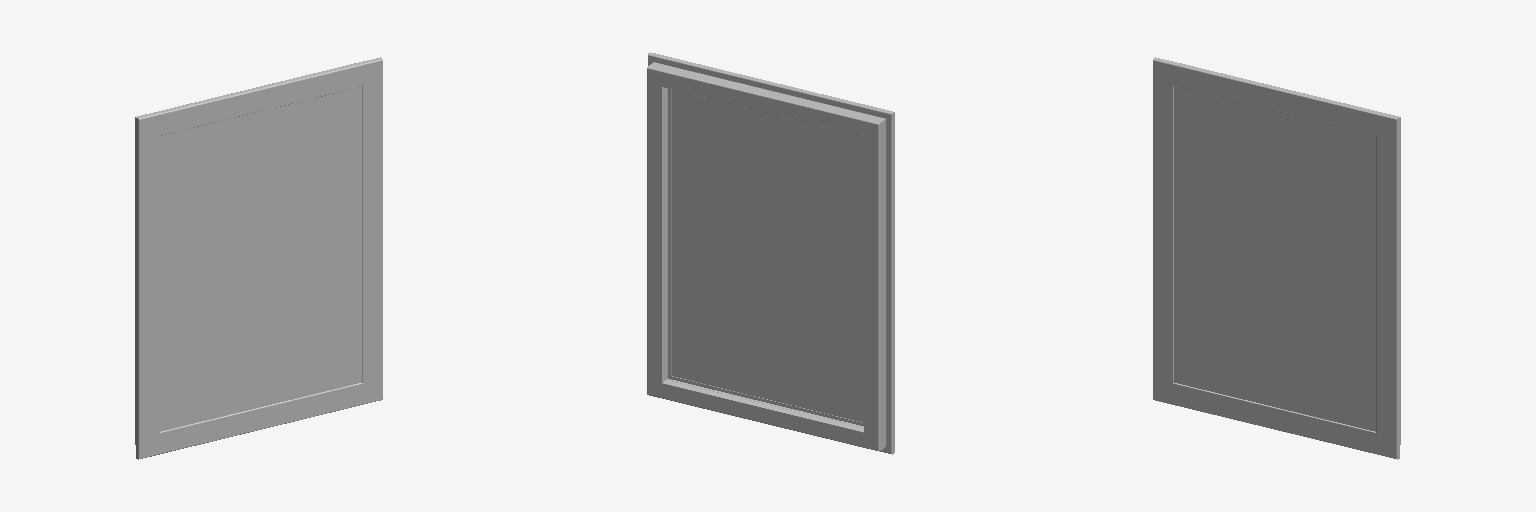
The model's file is window-right.obj.
3 views of the same model, side by side, from view 1: azimuth 30°, elevation 25°; view 2: azimuth 150°, elevation 25°; view 3: azimuth 330°, elevation 25° (orthographic).
Parts seen in each view (by area): view 1: polySurface4 group5 group2, group5 group2 file2:obj_01; view 2: polySurface4 group5 group2, group5 group2 file2:obj_01; view 3: polySurface4 group5 group2, group5 group2 file2:obj_01.
Part boxes in pixels (x1,y1,x2,y2): polySurface4 group5 group2: (160,87,361,431); group5 group2 file2:obj_01: (135,57,382,459); polySurface4 group5 group2: (672,90,863,422); group5 group2 file2:obj_01: (647,52,894,454); polySurface4 group5 group2: (1174,87,1375,431); group5 group2 file2:obj_01: (1153,57,1400,459).
Size of the model in its own units: 902 by 1200 by 65.8.